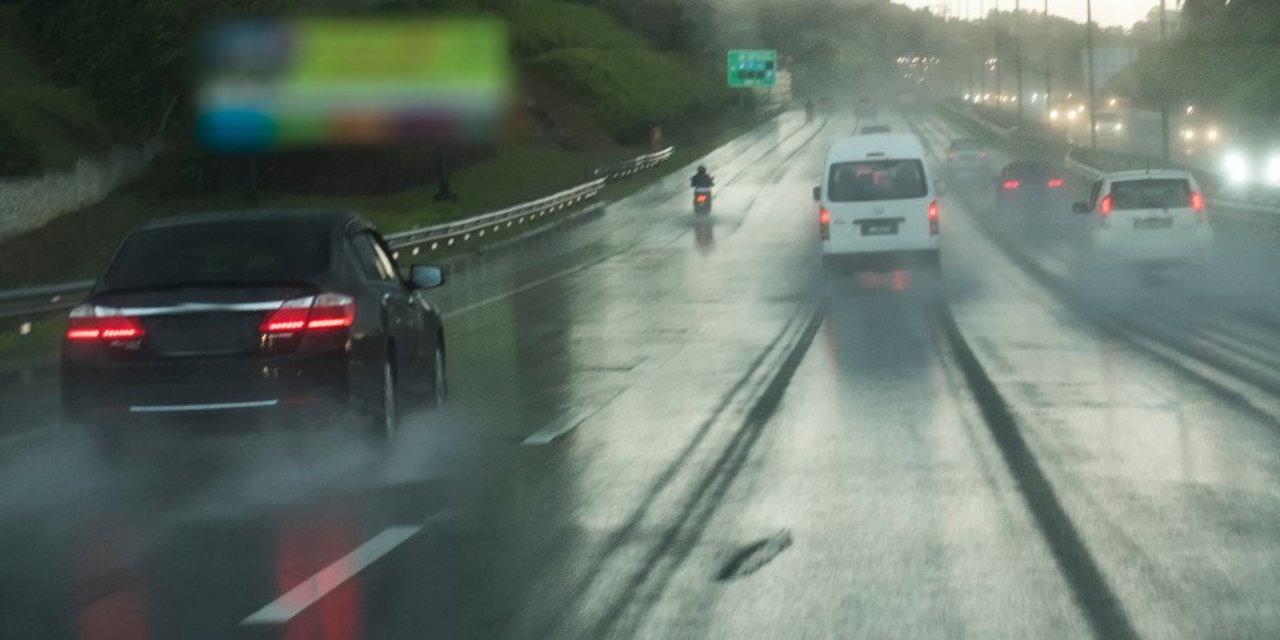car: (62, 211, 447, 448), (820, 136, 940, 277), (1094, 166, 1209, 258), (994, 158, 1065, 207), (1225, 131, 1279, 182), (946, 136, 989, 173), (1177, 110, 1221, 146), (1089, 109, 1130, 138), (1048, 100, 1079, 125), (853, 95, 878, 115)
motorcycle: (691, 186, 714, 219)
person: (690, 161, 713, 208)
